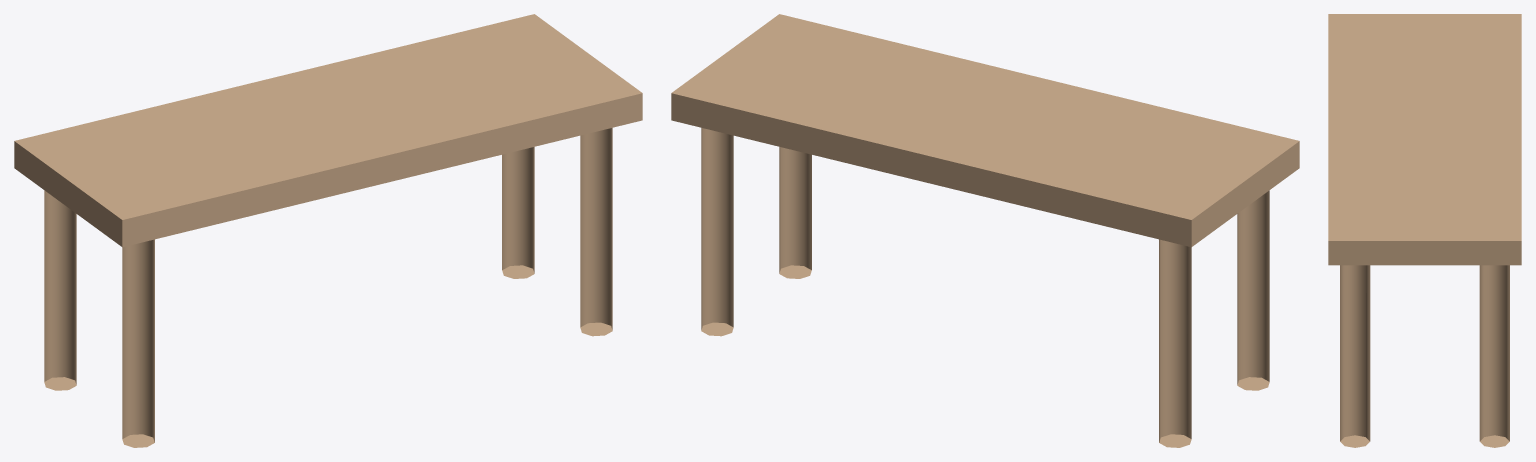
Rendered from bench_01.glb.
3 renders of one model, left to right at view 1: azimuth 30°, elevation 25°; view 2: azimuth 150°, elevation 25°; view 3: azimuth 270°, elevation 25°, orthographic. The views are drawn at different scales.
Size of the model in its own units: 1 by 0.44 by 0.36.
